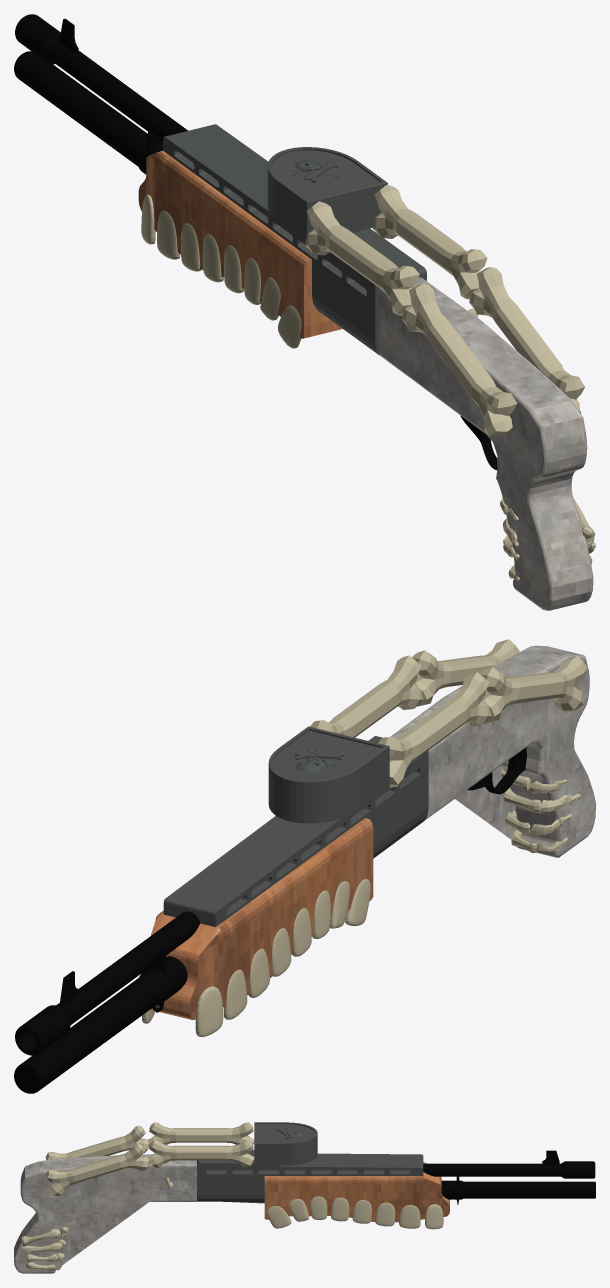
The model's file is TheUndertaker.fbx.
3 renders of one model, top to bottom at view 1: azimuth 30°, elevation 25°; view 2: azimuth 150°, elevation 25°; view 3: azimuth 270°, elevation 25°, orthographic. The views are drawn at different scales.
Visible parts, largest first — view 1: Cube, Bone.001, Cube.002, Cube.003, Cube.001, Cube.004, Cylinder.001, Cylinder, NLMVHM_R_Hand_Bones.001_NLMVHM_Hand_Bones.001; view 2: Cube, Bone.001, Cube.003, Cube.002, Cube.001, Cylinder.001, Cube.004, Cylinder, NLMVHM_R_Hand_Bones.001_NLMVHM_Hand_Bones.001, BezierCircle; view 3: Cube, Bone.001, Cube.002, Cube.003, Cube.004, Cylinder.001, Cube.001, Cylinder, NLMVHM_R_Hand_Bones.001_NLMVHM_Hand_Bones.001.
Boxes of the visible parts, left/top/right/bottom form: Cube: left=379, top=277, right=593, bottom=610; Bone.001: left=305, top=184, right=584, bottom=436; Cube.002: left=163, top=124, right=426, bottom=355; Cube.003: left=138, top=151, right=342, bottom=338; Cube.001: left=267, top=147, right=387, bottom=241; Cube.004: left=141, top=194, right=301, bottom=348; Cylinder.001: left=14, top=51, right=162, bottom=174; Cylinder: left=15, top=14, right=187, bottom=142; NLMVHM_R_Hand_Bones.001_NLMVHM_Hand_Bones.001: left=468, top=309, right=595, bottom=581; Cube: left=390, top=645, right=595, bottom=857; Bone.001: left=310, top=639, right=587, bottom=787; Cube.003: left=150, top=818, right=373, bottom=1019; Cube.002: left=163, top=736, right=428, bottom=927; Cube.001: left=268, top=726, right=389, bottom=823; Cylinder.001: left=14, top=956, right=187, bottom=1093; Cube.004: left=142, top=879, right=370, bottom=1036; Cylinder: left=15, top=911, right=200, bottom=1055; NLMVHM_R_Hand_Bones.001_NLMVHM_Hand_Bones.001: left=501, top=769, right=582, bottom=853; BezierCircle: left=467, top=747, right=526, bottom=794; Cube: left=14, top=1154, right=196, bottom=1273; Bone.001: left=45, top=1122, right=254, bottom=1196; Cube.002: left=197, top=1150, right=423, bottom=1203; Cube.003: left=264, top=1161, right=449, bottom=1222; Cube.004: left=267, top=1196, right=443, bottom=1229; Cylinder.001: left=441, top=1176, right=595, bottom=1204; Cube.001: left=254, top=1122, right=317, bottom=1165; Cylinder: left=423, top=1161, right=595, bottom=1178; NLMVHM_R_Hand_Bones.001_NLMVHM_Hand_Bones.001: left=21, top=1177, right=173, bottom=1270.
Bounding box in the file's own units: 191 × 479 × 1833.
5 materials, 2 textured.
